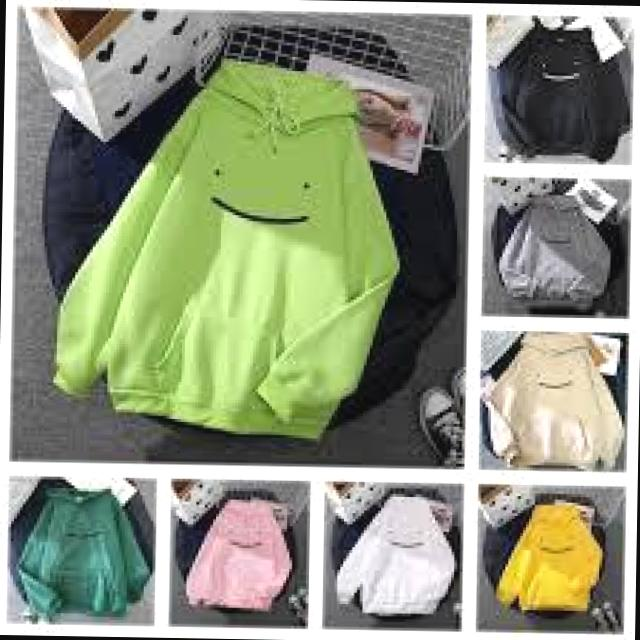sweater: (51, 56, 398, 444), (492, 16, 634, 160), (482, 327, 626, 466), (6, 482, 140, 618), (328, 491, 458, 616), (492, 492, 606, 614), (182, 492, 294, 614), (498, 192, 614, 305)
